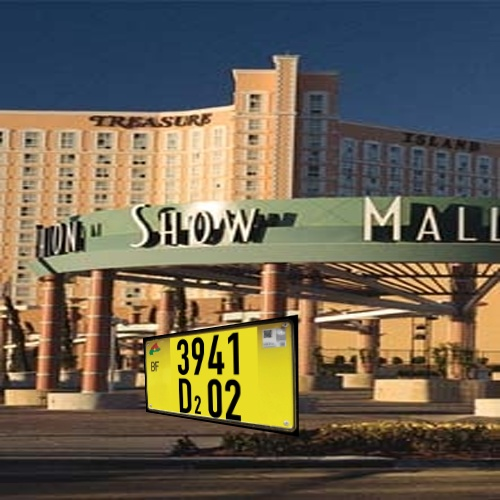plate: (129, 310, 310, 444)
